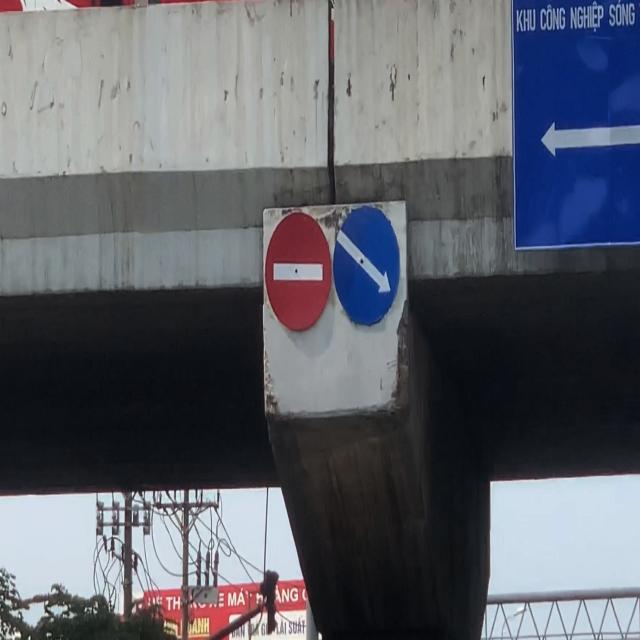Cam nguoc chieu: (264, 209, 332, 332)
Hieu lenh: (331, 204, 402, 329)
